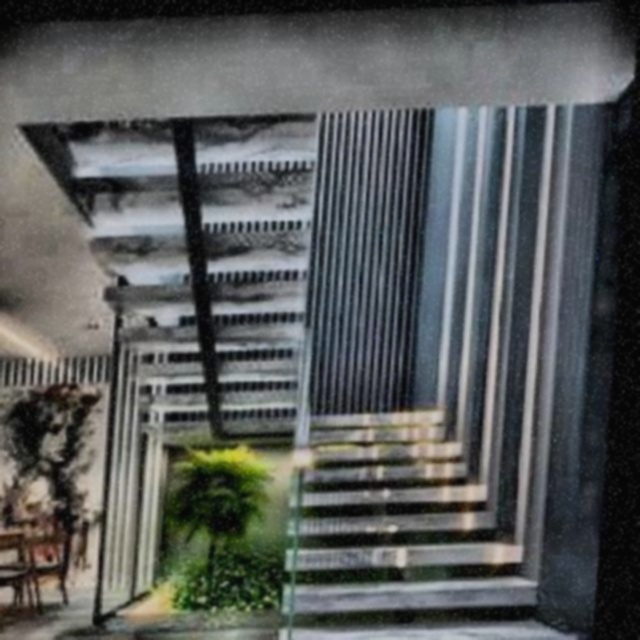stair: (282, 390, 542, 639)
